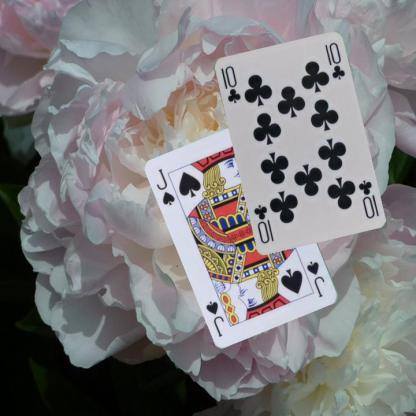10c: (356, 176, 376, 219), (222, 63, 242, 105)
Js: (304, 258, 326, 300), (154, 166, 176, 207)
